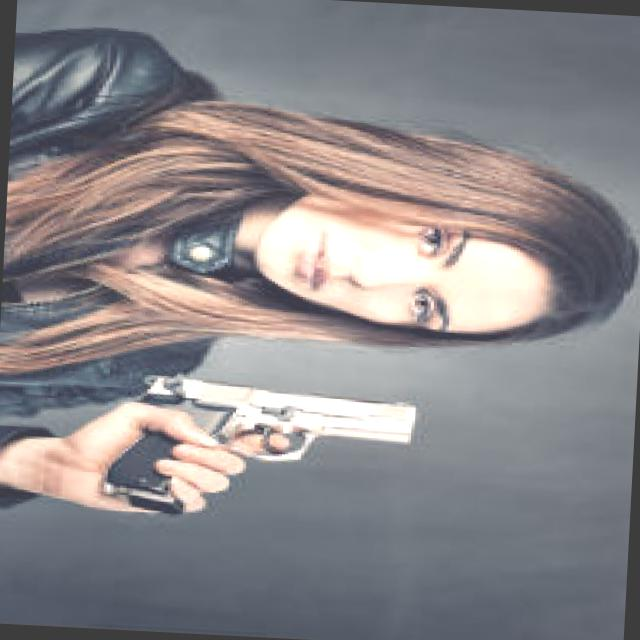handgun: (105, 366, 432, 525)
